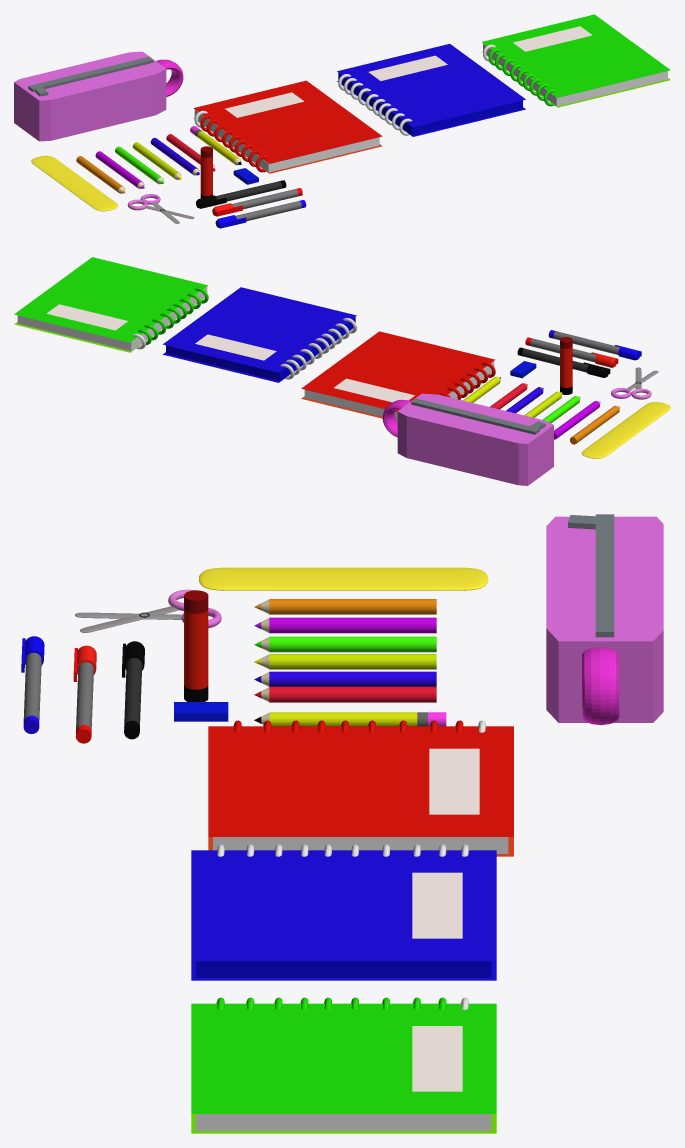
File: UtilesEscolares(preescolar_y_primaria).fbx
3 renders of one model, top to bottom at view 1: azimuth 30°, elevation 25°; view 2: azimuth 150°, elevation 25°; view 3: azimuth 270°, elevation 25°, orthographic. The views are drawn at different scales.
Visible parts, largest first — view 1: Plane, Plane.006, Torus.016, Cube.014, Cube.001, Cylinder.018, Cylinder.014, Cylinder.016, Cylinder.010, Cube.010, Cone, Cone.004 (+5 smaller); view 2: Plane.006, Torus.016, Cube.014, Plane, Cube.001, Cylinder.018, Cylinder.014, Cylinder.016, Cylinder.010, Cube.010, Cylinder.009, Cylinder.008; view 3: Torus.016, Plane.006, Plane, Cube.014, Cube.001, Cone.002, Cylinder.007, Cylinder.008, Cone.007, Cylinder.009, Cone.004, Cylinder.010 (+6 smaller).
Part boxes in pixels (x1,y1,x2,y2): Plane: (193,80,382,173); Plane.006: (481,14,670,107); Torus.016: (337,44,525,136); Cube.014: (14,51,183,141); Cube.001: (31,155,118,211); Cylinder.018: (215,200,306,228); Cylinder.014: (196,180,286,208); Cylinder.016: (212,188,302,216); Cylinder.010: (200,146,212,198); Cube.010: (127,194,194,223); Cone: (190,126,241,165); Cone.004: (150,137,199,175); Plane.006: (14,257,208,352); Torus.016: (163,287,357,382); Cube.014: (382,393,553,485); Plane: (301,331,495,421); Cube.001: (581,402,670,458); Cylinder.018: (548,330,641,360); Cylinder.014: (517,347,610,377); Cylinder.016: (525,337,618,367); Cylinder.010: (560,337,572,394); Cube.010: (611,367,658,399); Cylinder.009: (570,405,619,444); Cylinder.008: (554,401,600,439); Torus.016: (191,844,496,980); Plane.006: (191,997,496,1133); Plane: (208,720,513,856); Cube.014: (546,514,663,725); Cube.001: (199,567,488,590); Cone.002: (254,686,436,702); Cylinder.007: (254,636,436,652); Cylinder.008: (254,617,436,633); Cone.007: (254,654,436,669); Cylinder.009: (254,599,436,614); Cone.004: (254,671,436,686); Cylinder.010: (184,590,208,701).
Bounding box in the file's own units: 891 × 83.47 × 435.
